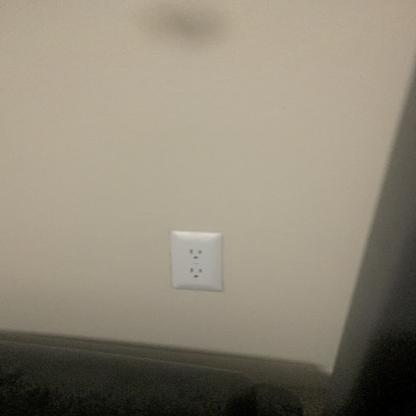OUTLET: (169, 231, 225, 290)
